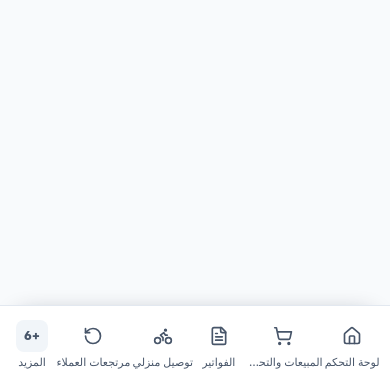
permission-aware navigation › mounts one mobile nav outside a hidden sidebar and keeps More count deduplicated
expect the number of links is 5: met, box [322,314,382,376]; [243,314,322,376]; [202,326,235,368]; [131,314,195,376]; [56,314,131,376]
Click the button with aria-label "المزيد من الخيارات".
click(32, 345)  # box [8,314,56,376]
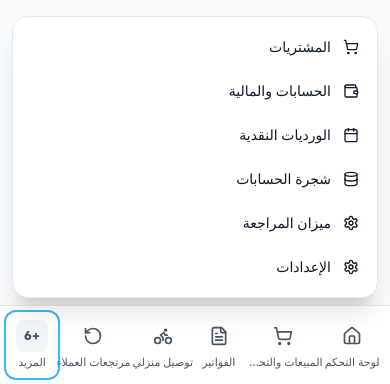
expect the number of links is 11: met
